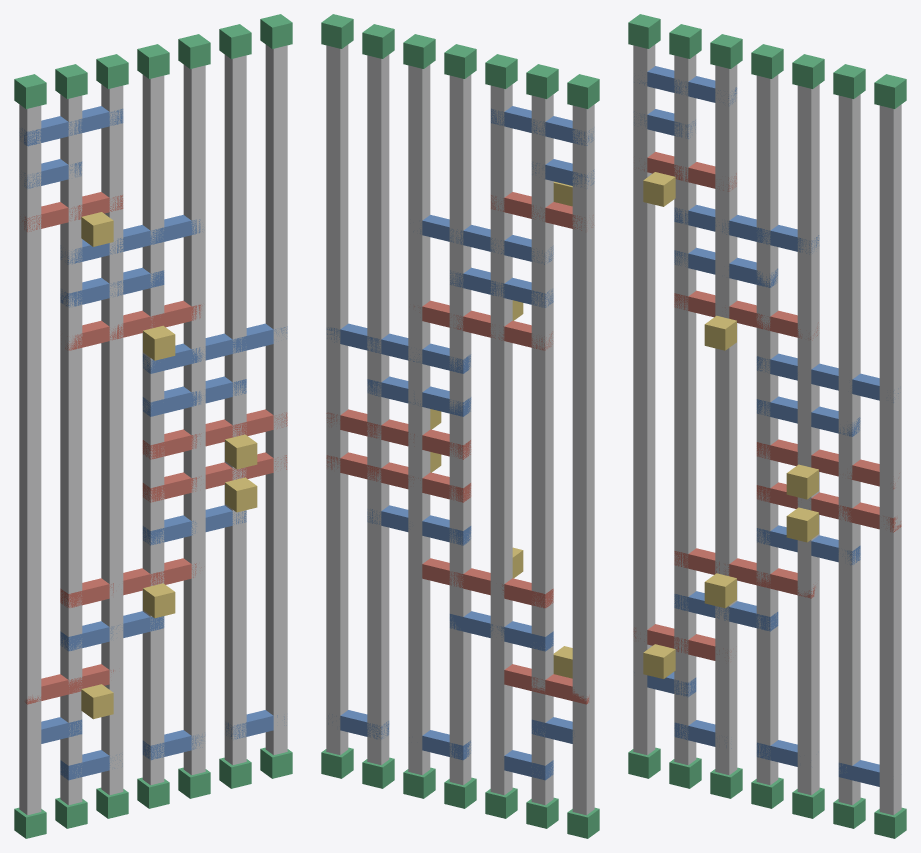
Rendered from ls_adder3.glb.
The picture shows the model from 3 angles, left to right: view 1: azimuth 30°, elevation 25°; view 2: azimuth 150°, elevation 25°; view 3: azimuth 330°, elevation 25°; orthographic projection.
Parts seen in each view (by area): view 1: world; view 2: world; view 3: world.
Part boxes in pixels (x1,y1,x2,y2): world: (14, 14, 292, 838); world: (321, 14, 599, 838); world: (628, 14, 906, 838).
Size of the model in its own units: 6.5 by 17.5 by 1.6.
